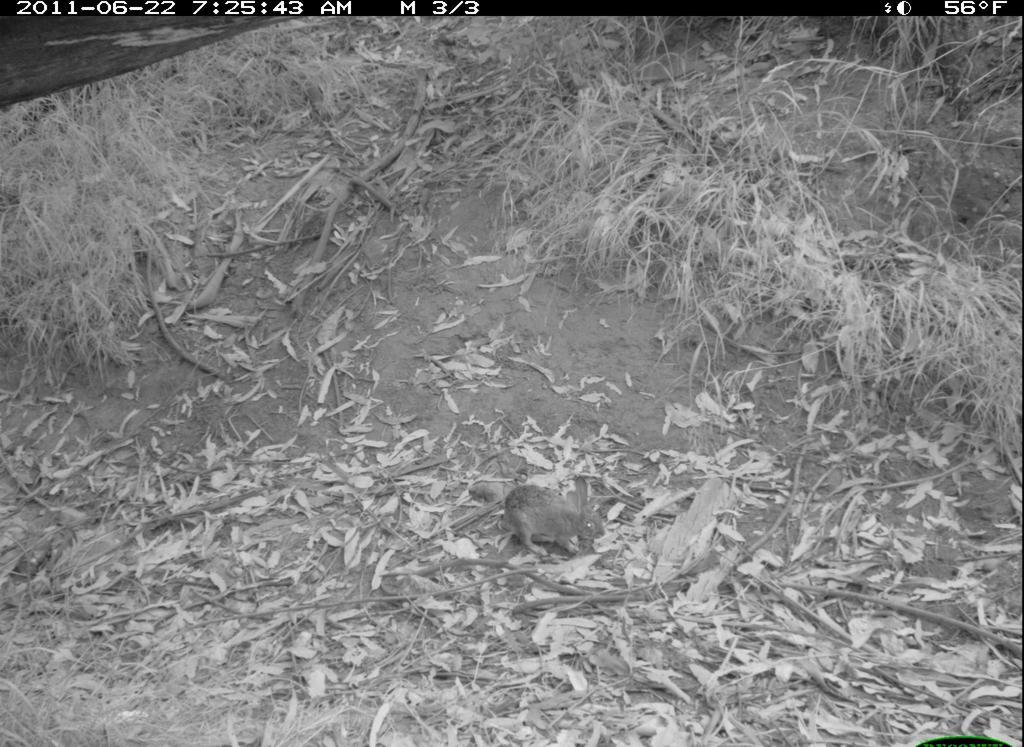rabbit: (501, 466, 612, 569)
